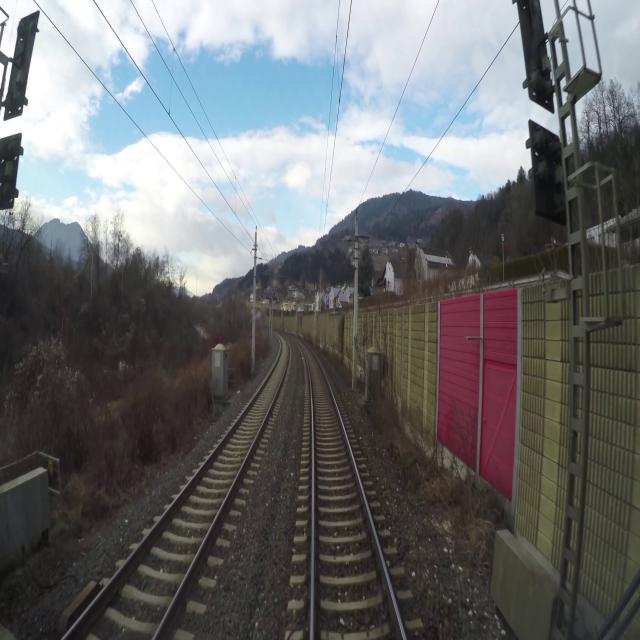rail-track: (67, 339, 287, 639), (301, 343, 402, 639)
